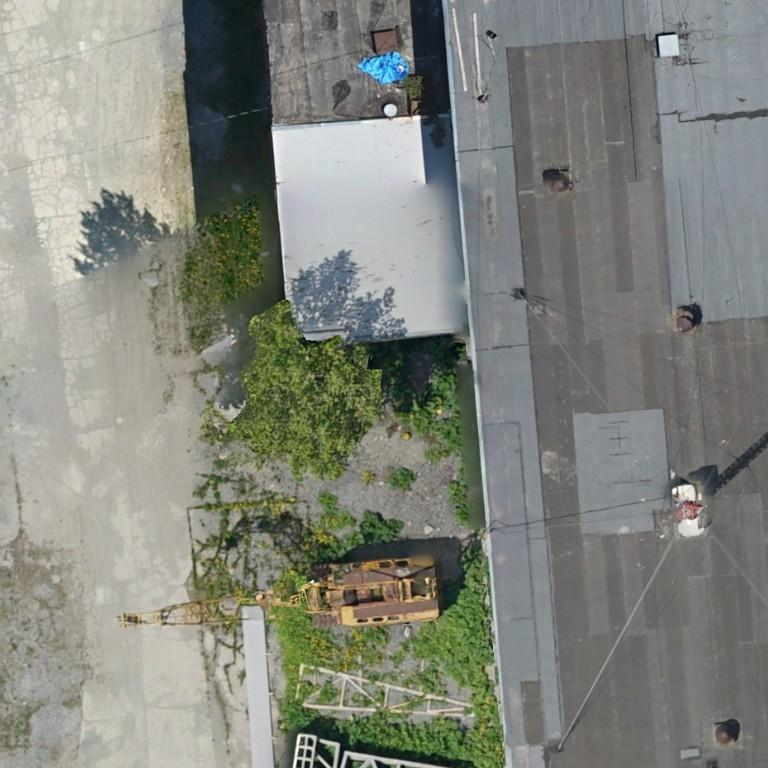hogweed: (283, 553, 504, 767), (362, 511, 402, 544), (448, 472, 467, 521)
